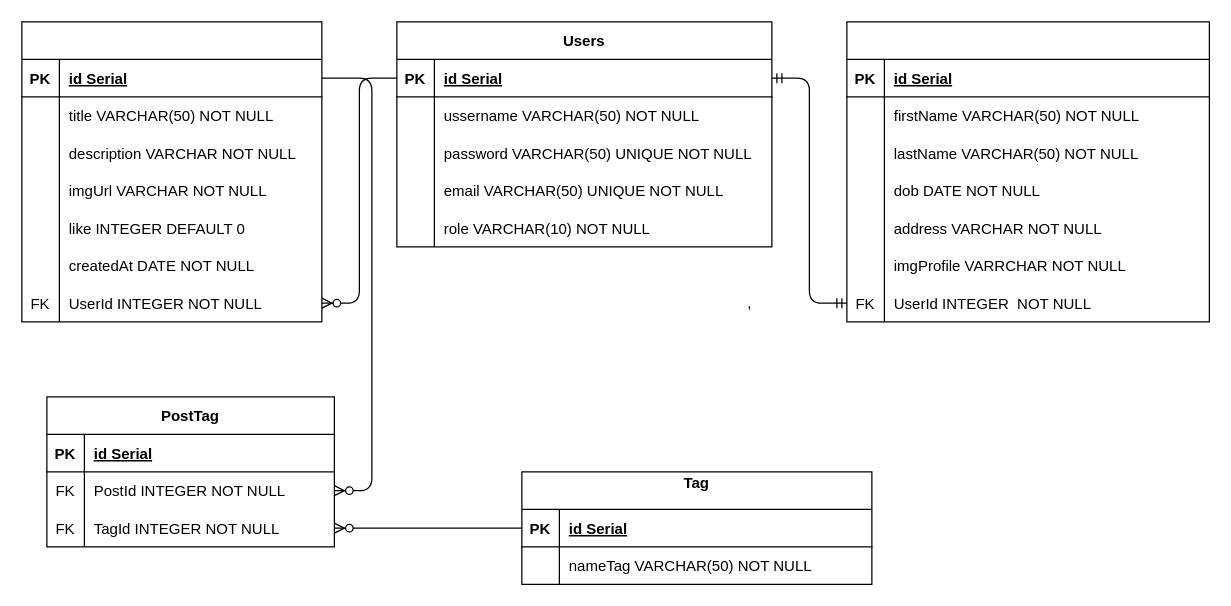
This 1231x606 diagram has some shape labels left out. The shapes that lost their labels are listed below. From the top down, each one's box as (x1, y1, x2, y2) in pixels, then its label:
(21, 21, 322, 322): Posts
(846, 21, 1209, 322): Profiles
